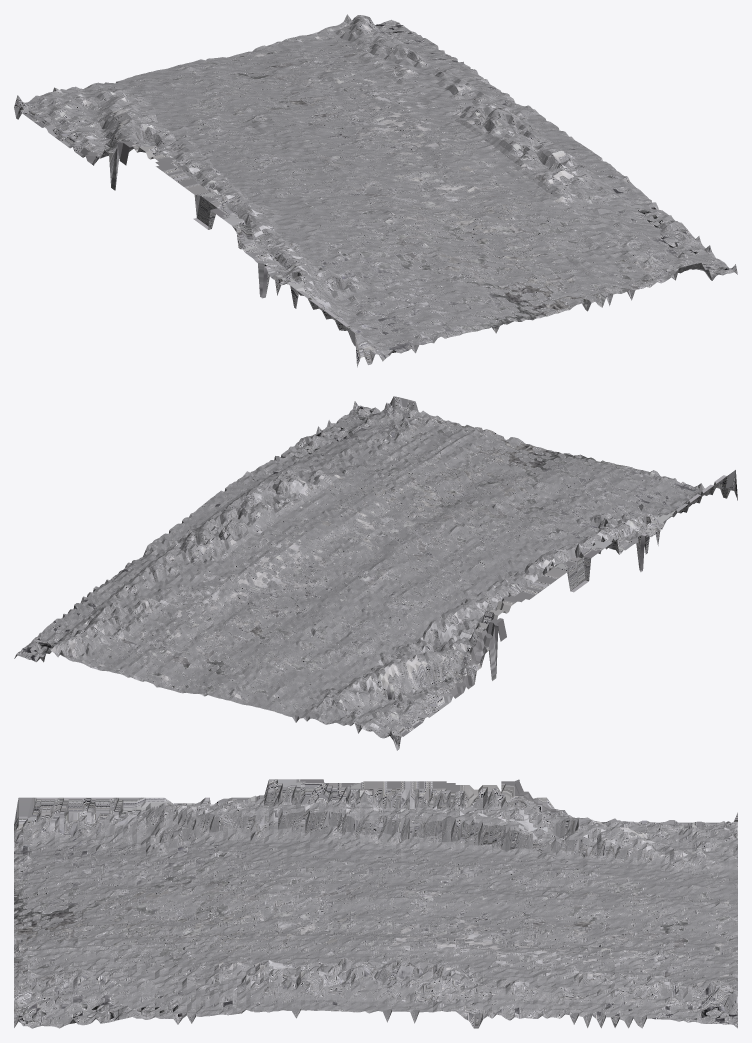
The model's file is canada_snow_road_light.glb.
The picture shows the model from 3 angles, top to bottom: view 1: azimuth 30°, elevation 25°; view 2: azimuth 150°, elevation 25°; view 3: azimuth 270°, elevation 25°; orthographic projection. The views are drawn at different scales.
Parts seen in each view (by area): view 1: world; view 2: world; view 3: world.
Boxes of the visible parts, x1,y1,x2,y2 form: world: [14, 14, 737, 367]; world: [14, 396, 737, 750]; world: [14, 779, 737, 1028].
Size of the model in its own units: 18.66 by 2.36 by 29.11.
Materials: 1 (1 with a texture image).
